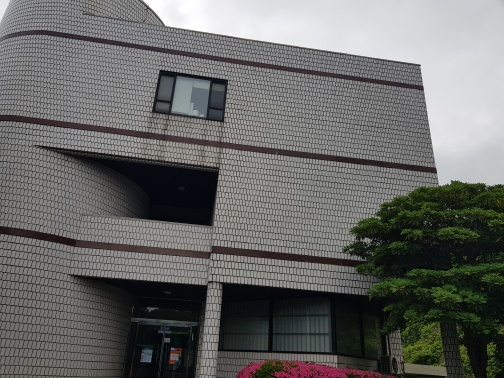Foreign Language Institute: (13, 4, 472, 370)
